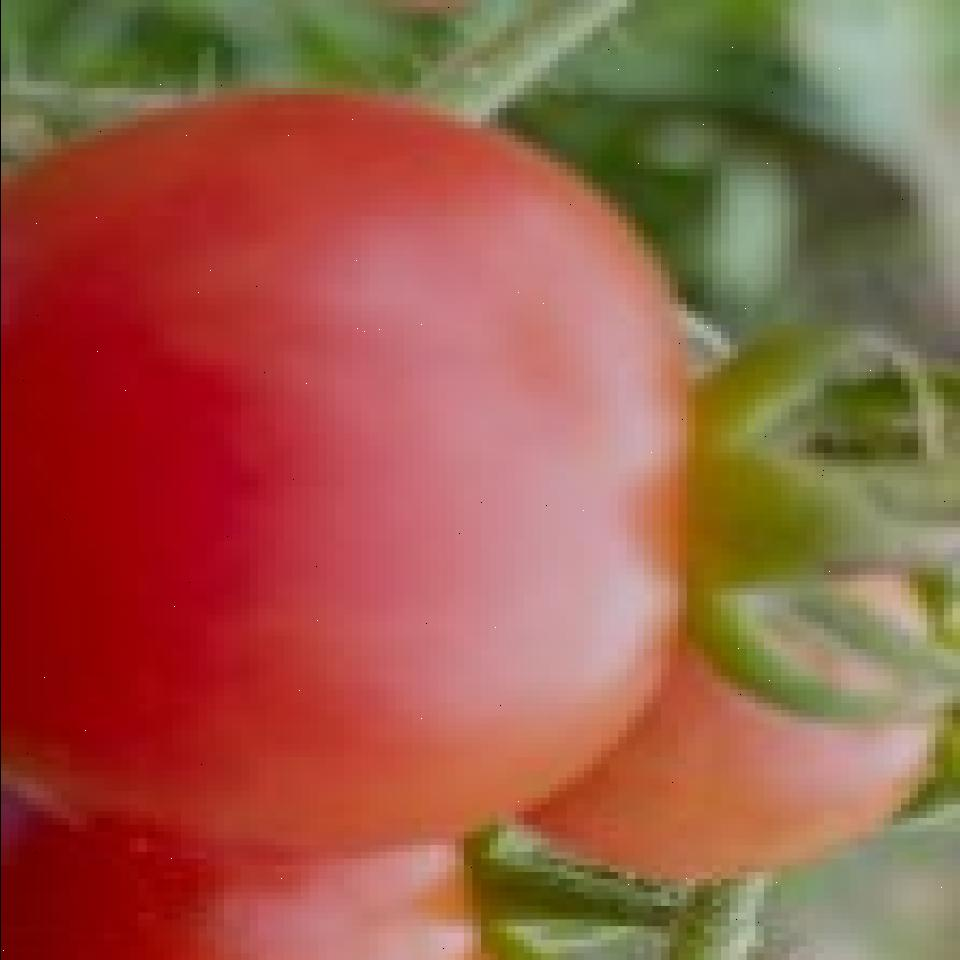Healthy: (0, 88, 677, 852), (521, 454, 960, 896)
